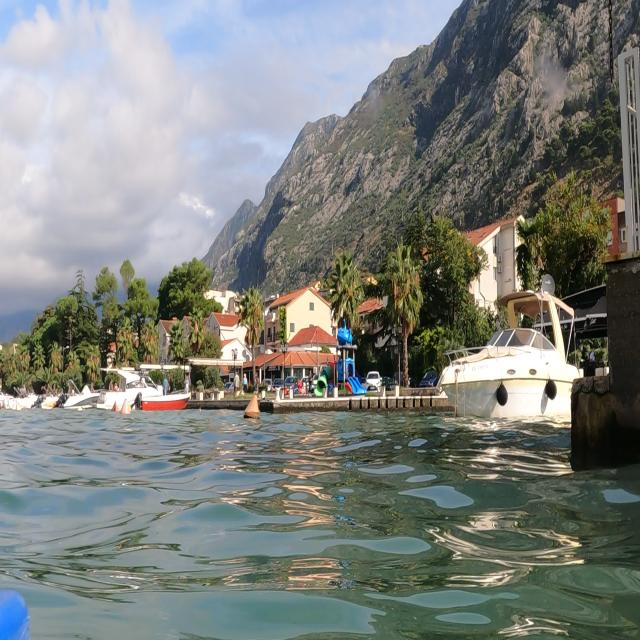boat: (436, 278, 583, 425), (94, 358, 197, 411)
buoy: (240, 387, 266, 428), (118, 399, 134, 423)
